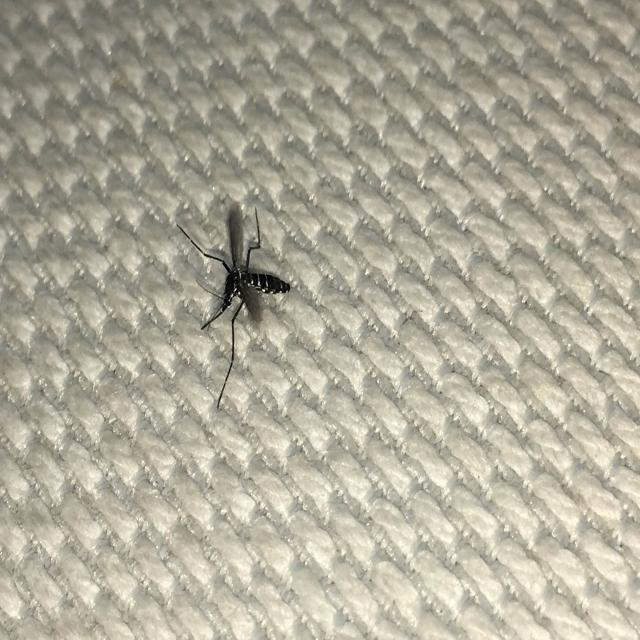albopictus: (169, 201, 303, 410)
